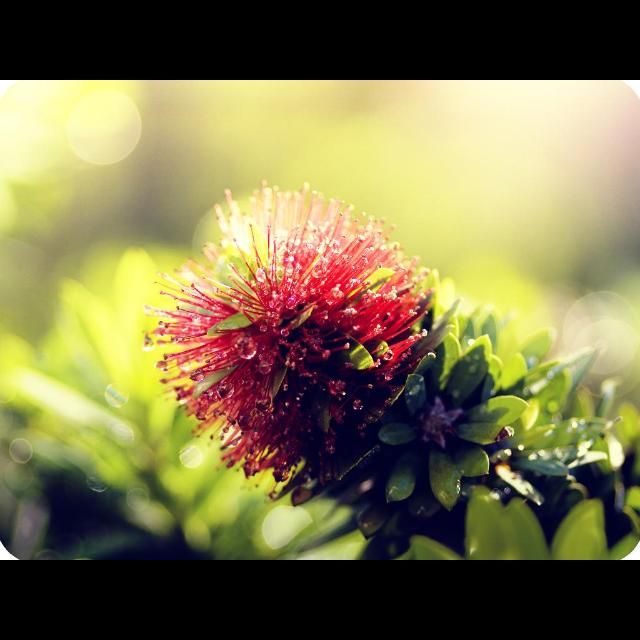Flower: (150, 180, 434, 496)
